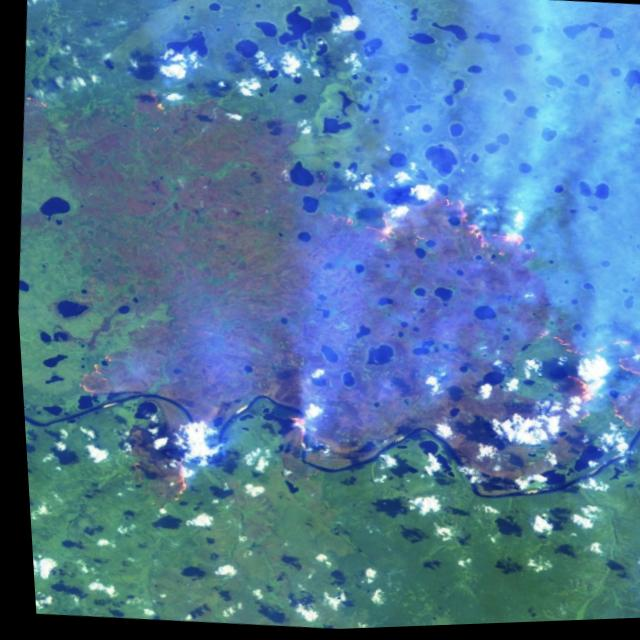fire: (319, 169, 532, 263), (506, 317, 640, 439), (115, 449, 201, 516), (61, 348, 119, 409), (109, 85, 176, 120), (20, 83, 55, 119)
